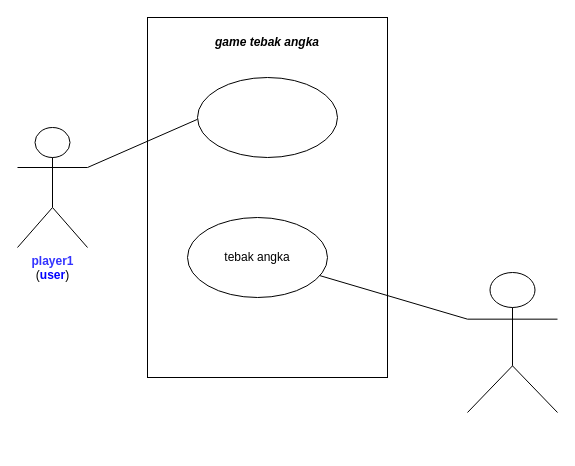
The diagram is 575 pixels wide and 466 high, and some of its shapes have lost their labels. The centre of each missing label's shape, as x and y in pixels:
player2 user: (x=512, y=342)
Random angka: (x=267, y=117)
